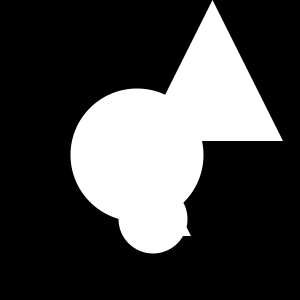rectangle: (70, 89, 204, 222), (118, 184, 188, 254)
triangle: (142, 0, 283, 141), (159, 204, 191, 236)
